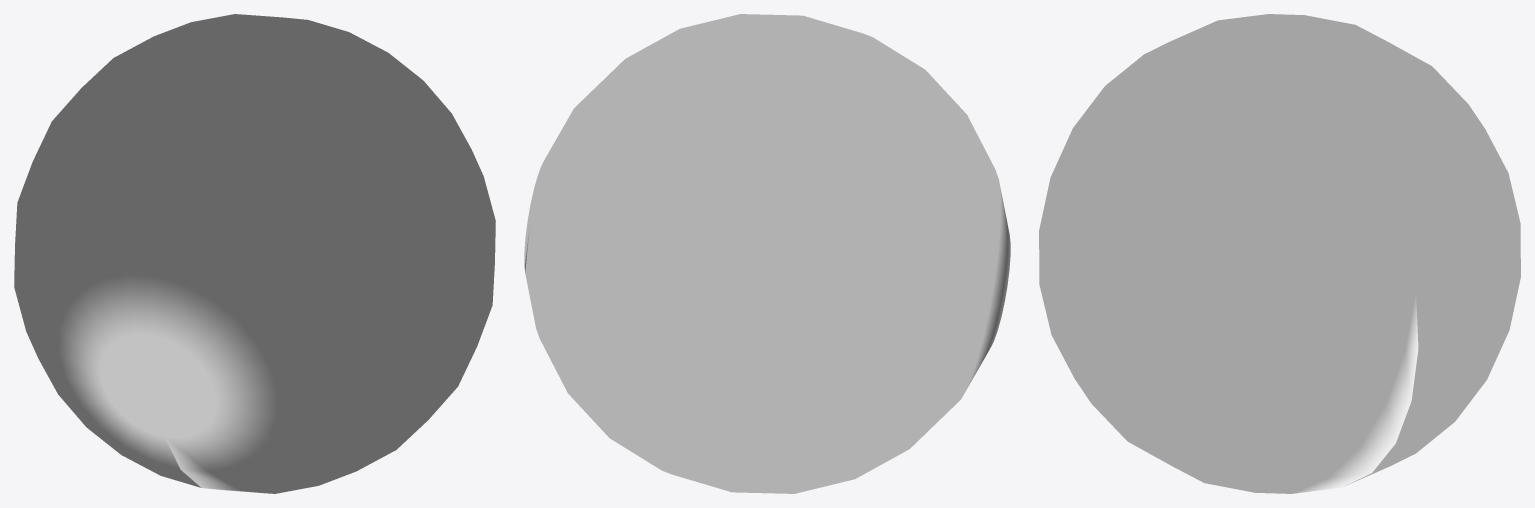
Rendered from stg210_sky.obj.
3 views of the same model, side by side, from view 1: azimuth 30°, elevation 25°; view 2: azimuth 150°, elevation 25°; view 3: azimuth 270°, elevation 25° (orthographic).
Parts seen in each view (by area): view 1: polygon0; view 2: polygon0; view 3: polygon0.
Part boxes in pixels (x1=…): polygon0: x1=14, y1=14, x2=495, y2=493; polygon0: x1=524, y1=14, x2=1010, y2=493; polygon0: x1=1039, y1=14, x2=1520, y2=493.
Bounding box in the file's own units: 26867 × 26822 × 26867.
8 materials, 8 textured.
